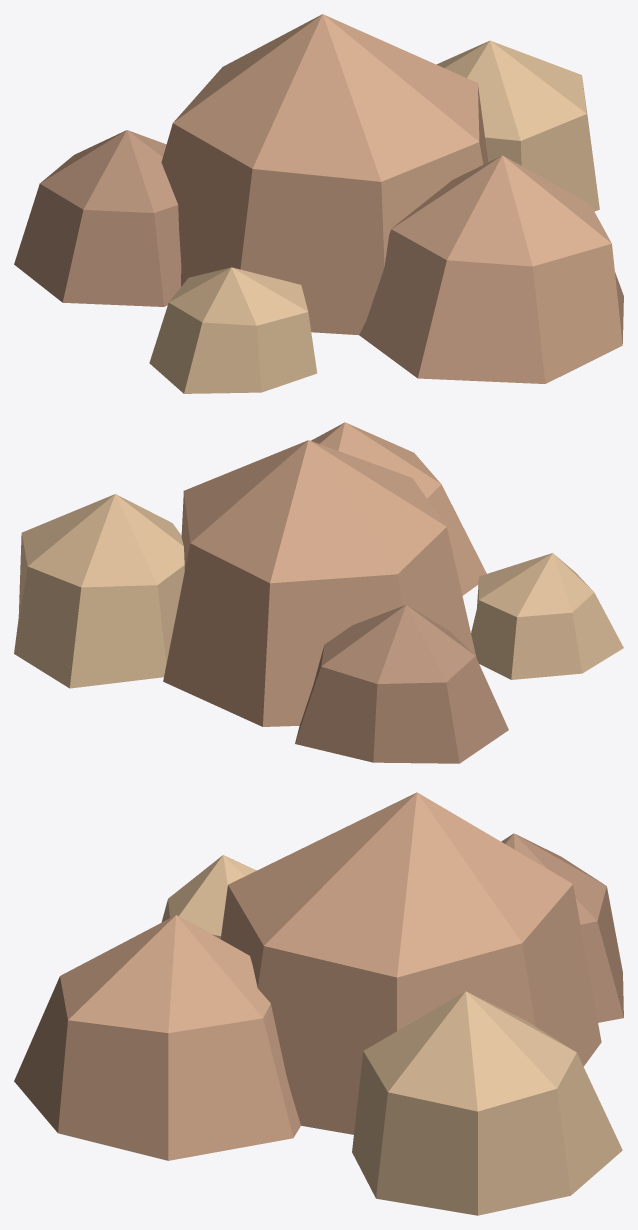
Rendered from desert_DesertRocks.fbx.
3 renders of one model, top to bottom at view 1: azimuth 30°, elevation 25°; view 2: azimuth 150°, elevation 25°; view 3: azimuth 270°, elevation 25°, orthographic. The views are drawn at different scales.
Parts seen in each view (by area): view 1: DesertRocks; view 2: DesertRocks; view 3: DesertRocks.
Boxes of the visible parts, <box> form: DesertRocks: <box>14,14,623,393</box>; DesertRocks: <box>14,422,623,763</box>; DesertRocks: <box>14,792,623,1215</box>.
Bounding box in the file's own units: 5.01 × 2.2 × 4.53.
